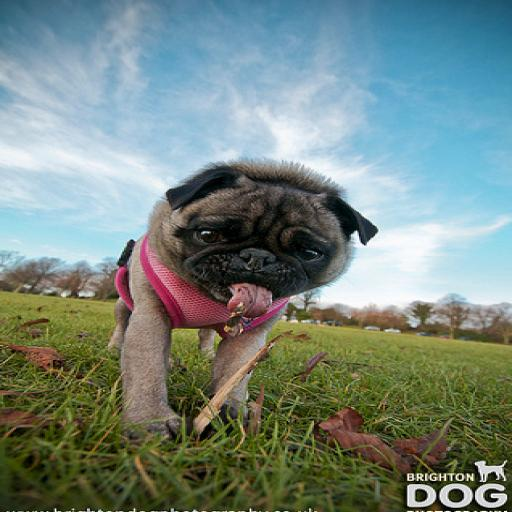dog_face: (153, 156, 386, 306)
